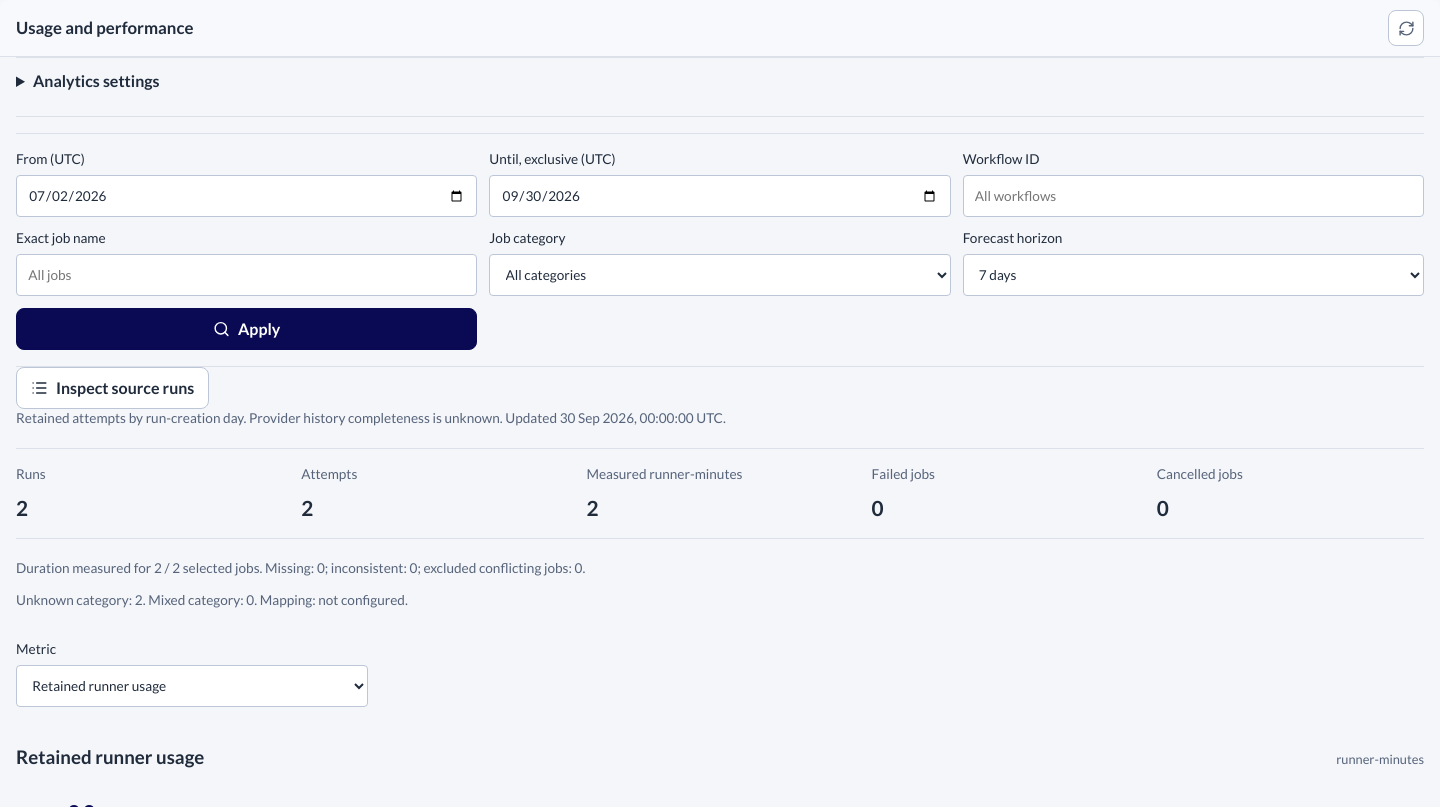
header refresh retries the report after snapshot_changed without changing filters
This screenshot has width=1440, height=807.
Check: the heading "Retained runner usage" is shown, box [16,744,204,770]
Type "Ruff" into the field labelled "Exact job name" at (247, 276), box [16,254,477,296]
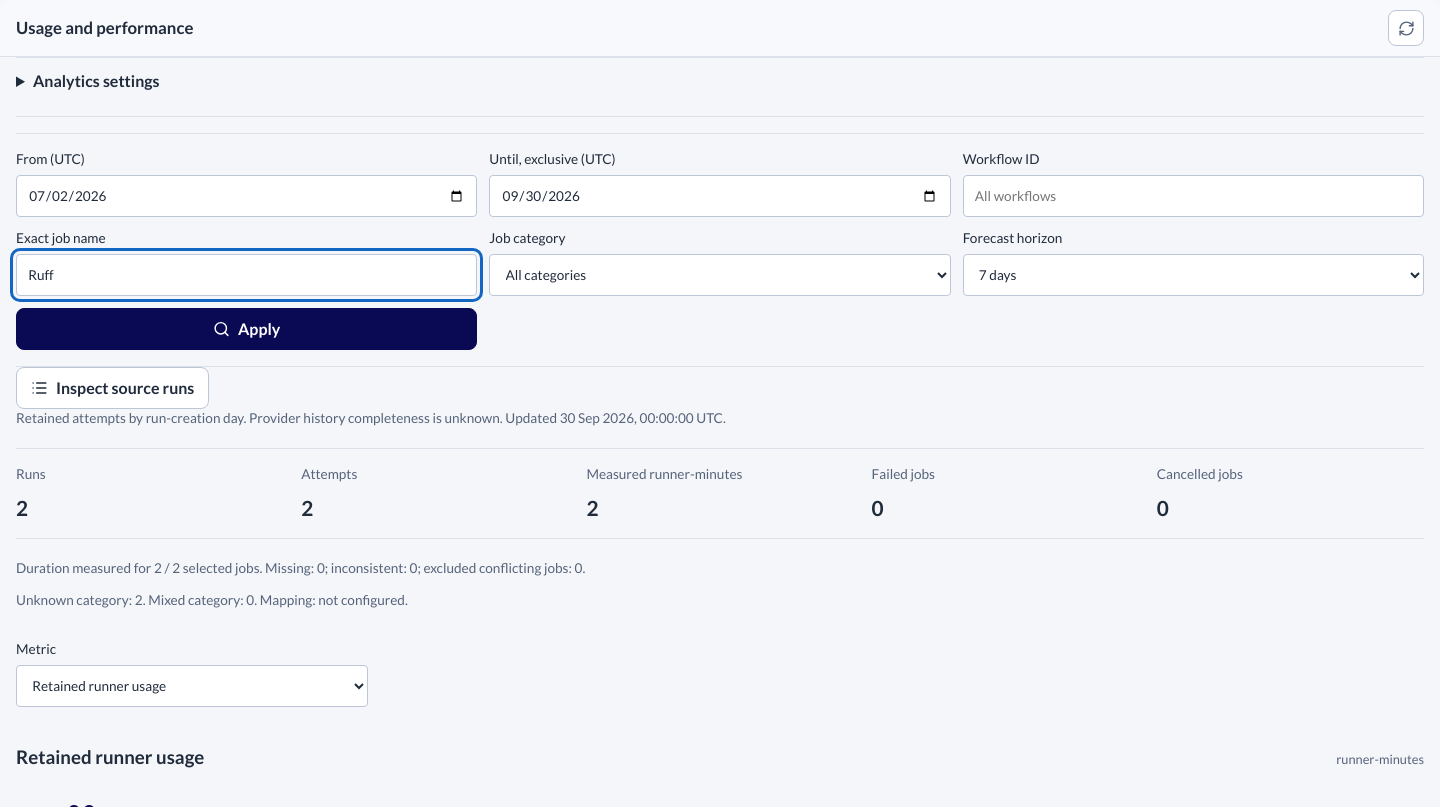
Click the button "Apply" at (247, 330), box [16,308,477,350]
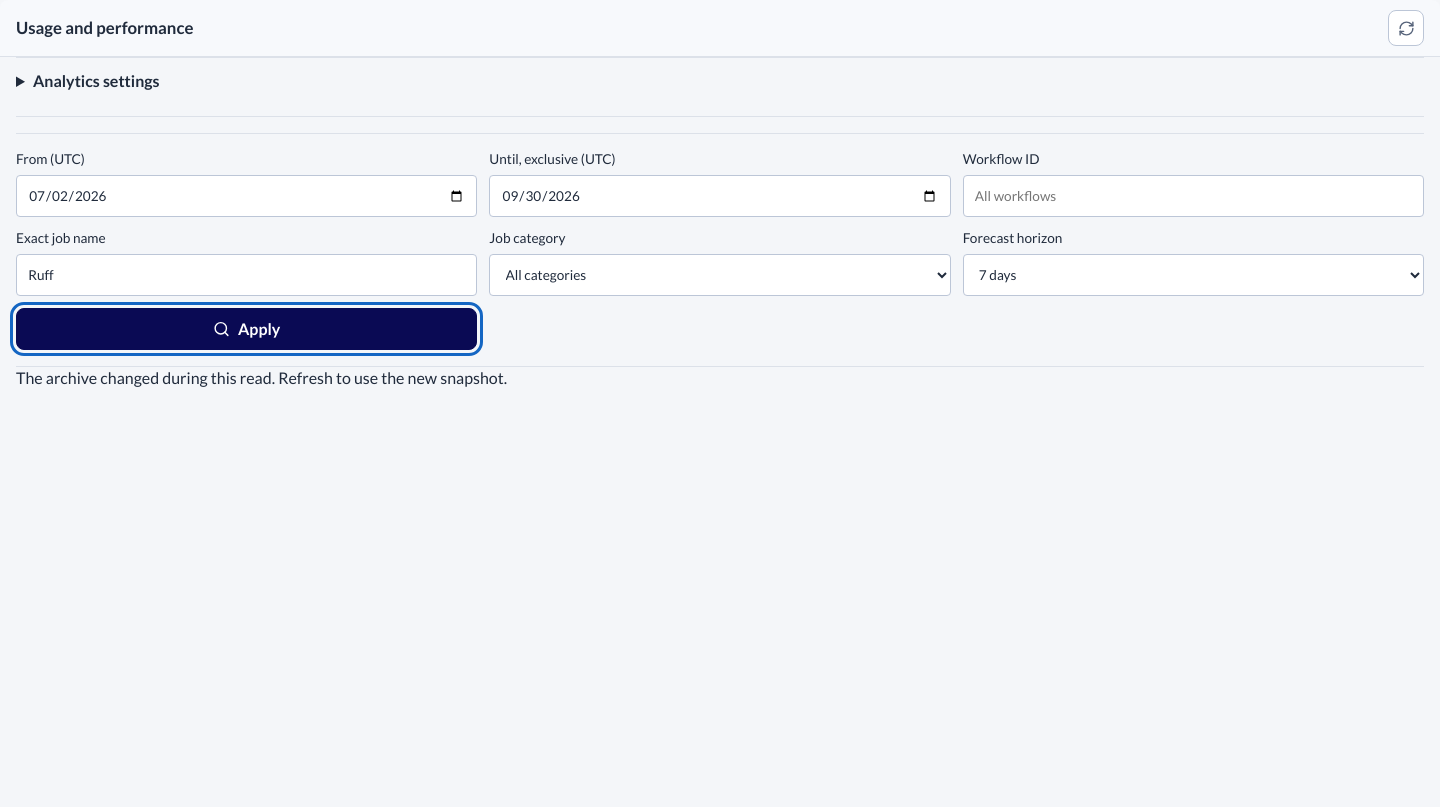
Check: the text "The archive changed during this read. Refresh to use the new snapshot." is shown, box [16,368,507,388]
Click the button named "Refresh evidence" at (1406, 28), box [1388,10,1424,46]
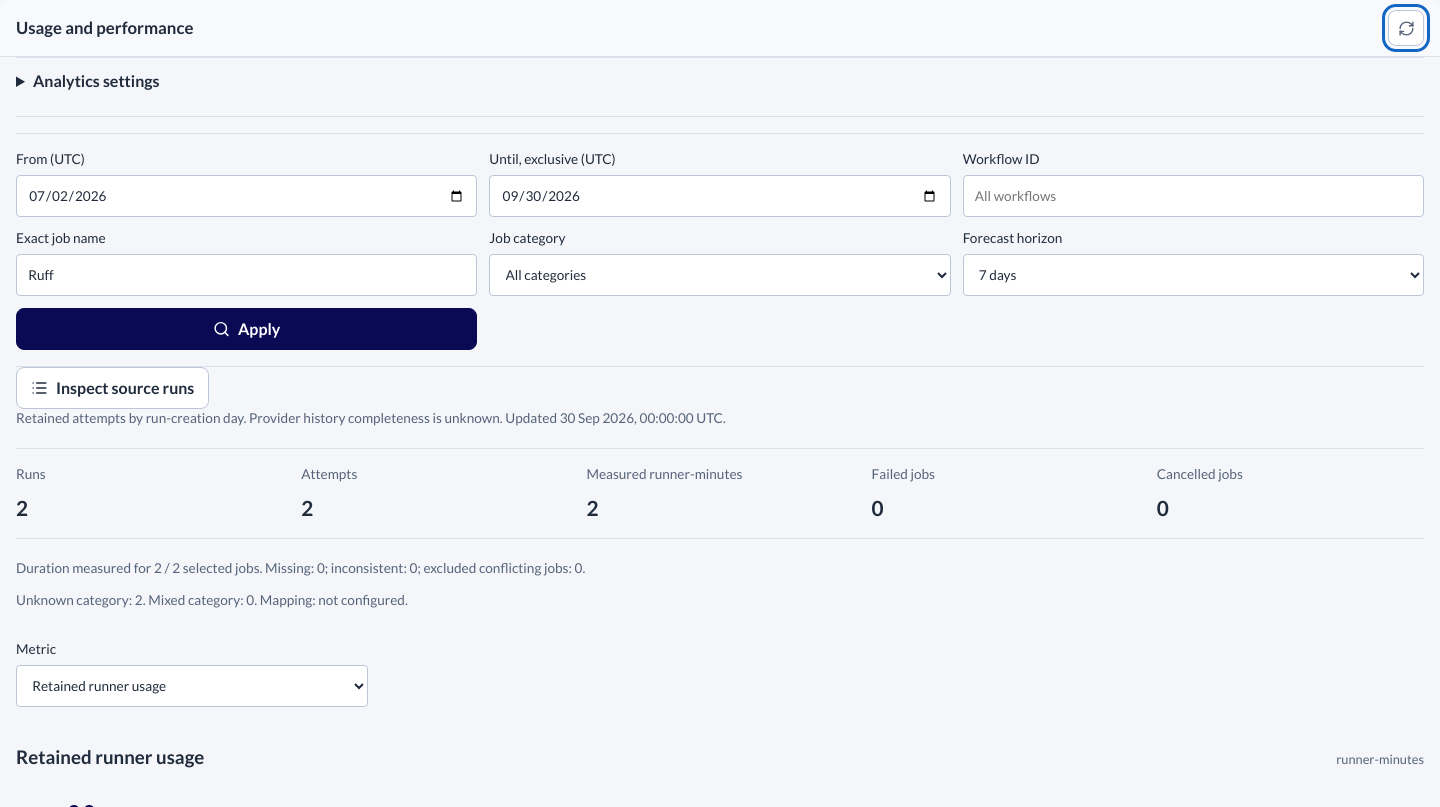
Check: the heading "Retained runner usage" is shown, box [16,744,204,770]
